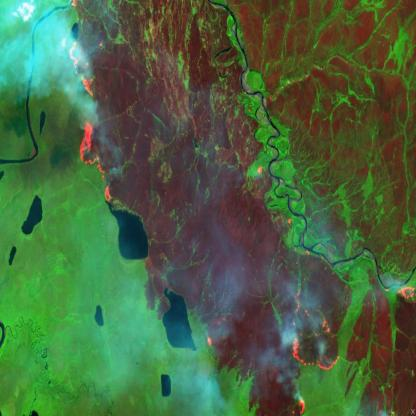fire: (64, 26, 115, 212), (291, 289, 342, 379), (384, 276, 416, 310), (282, 391, 311, 416), (294, 246, 316, 263), (256, 161, 270, 178), (284, 214, 298, 231), (207, 332, 214, 355)
